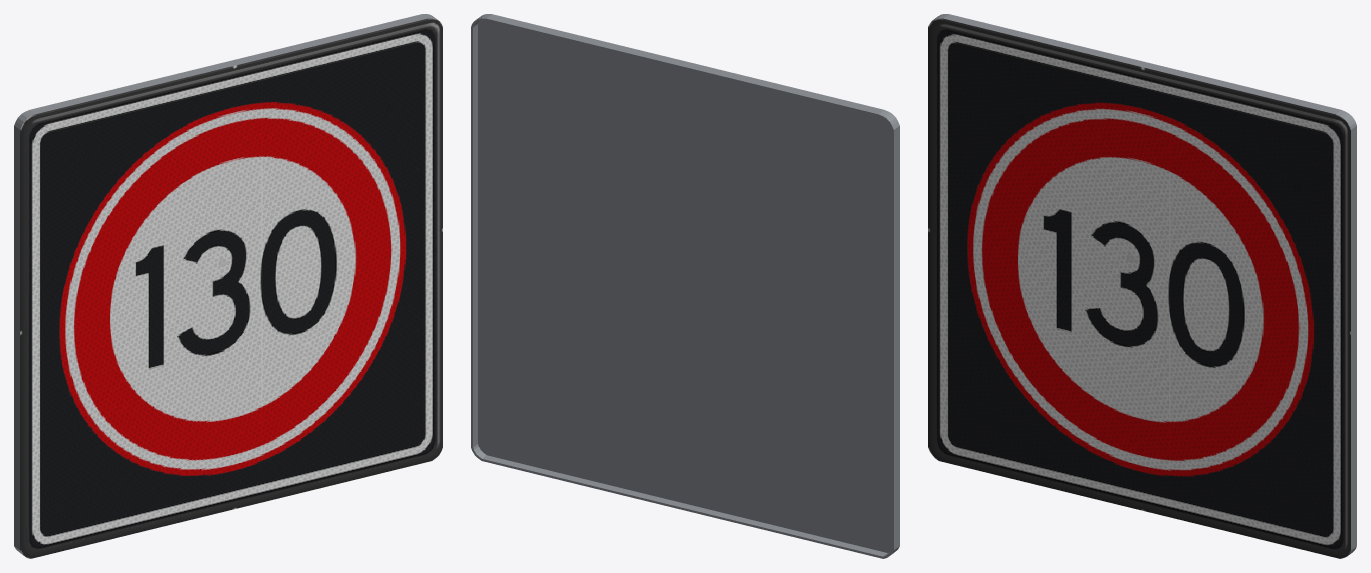
3 renders of one model, left to right at view 1: azimuth 30°, elevation 25°; view 2: azimuth 150°, elevation 25°; view 3: azimuth 330°, elevation 25°, orthographic.
Visible parts, largest first — view 1: cat_3fccbe80d4c269f3; view 2: cat_3fccbe80d4c269f3; view 3: cat_3fccbe80d4c269f3.
Part boxes in pixels (x1=…): cat_3fccbe80d4c269f3: x1=14, y1=14, x2=442, y2=558; cat_3fccbe80d4c269f3: x1=471, y1=14, x2=899, y2=558; cat_3fccbe80d4c269f3: x1=928, y1=14, x2=1356, y2=558.
Bounding box in the file's own units: 0.6 × 0.015 × 0.6014.
Materials: 2 (1 with a texture image).
